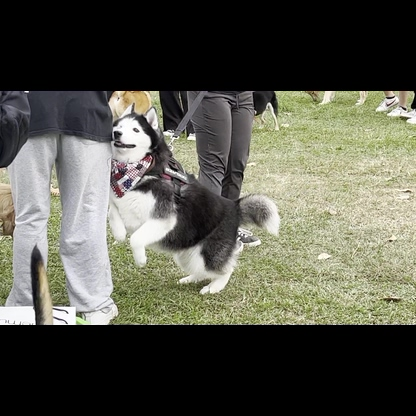husky: (104, 103, 284, 302)
